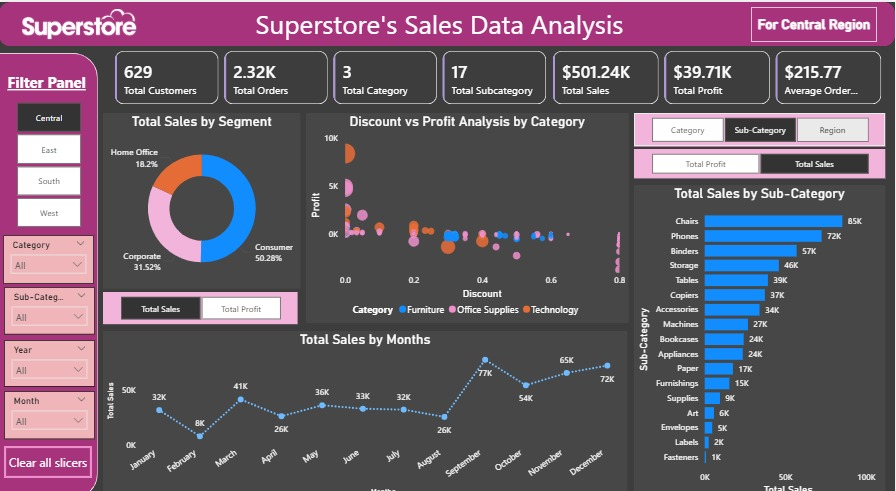

What the dashboard file says about the page in this screenshot:
{"tool":"powerbi","page":{"name":"Page 1","canvas":[1280,720],"ordinal":0},"visuals":[{"type":"shape","box":[0,0,1280.2,63.4],"z":0},{"type":"textbox","box":[361.4,0,535.7,60.5],"z":1000},{"type":"cardVisual","fields":{"Data":["sales_data.Total Customers","sales_data.Total Orders","sales_data.Total Category","sales_data.Total Subcategory"]},"box":[148.3,53.3,653.8,110.9],"z":2000},{"type":"cardVisual","fields":{"Data":["sales_data.Total Sales","sales_data.Total Profit","sales_data.Average Order Value"]},"box":[774.7,53.3,505.4,110.9],"z":3000},{"type":"shape","box":[0,73.4,141.1,636.5],"z":4000},{"type":"textbox","box":[0,93.8,136.2,49.2],"z":5000},{"type":"lineChart","fields":{"Y":["sales_data.Total Sales"],"Category":["sales_data.month_name"]},"box":[148.3,469.4,748.8,240.5],"z":6000},{"type":"slicer","fields":{"Values":["sales_data.year"]},"box":[6.7,482.2,130,66.7],"z":7000},{"type":"slicer","fields":{"Values":["sales_data.month"]},"box":[6.7,555.6,130,68.9],"z":8000},{"type":"slicer","fields":{"Values":["Choose Y-Axis.Choose Y-Axis"]},"box":[148.3,414.7,277.9,46.1],"z":9000},{"type":"slicer","fields":{"Values":["Choose Y-Axis Values 2.Choose Y-Axis Values"]},"box":[907.2,158.4,358.6,47.5],"z":10000},{"type":"clusteredBarChart","fields":{"Category":["sales_data.Sub-Category"],"Y":["sales_data.Total Sales"]},"box":[907.2,262.1,358.6,447.8],"z":11000},{"type":"slicer","fields":{"Values":["Choose X-Axis.Choose X-Axis"]},"box":[907.2,210.2,358.6,41.8],"z":12000},{"type":"scatterChart","title":"Discount vs Profit Analysis by Category","fields":{"X":["Avg(sales_data.discount)"],"Y":["Sum(sales_data.profit)"],"Size":["Sum(sales_data.sales)"],"Series":["sales_data.Category"],"Category":["sales_data.order_id"]},"box":[439.2,158.4,460.8,299.5],"z":13000},{"type":"donutChart","title":"Total Sales by Segment","fields":{"Category":["sales_data.segment"],"Y":["sales_data.Total Sales"]},"box":[148.3,158.4,282.2,250.6],"z":14000},{"type":"slicer","fields":{"Values":["sales_data.Category"]},"box":[5.6,332.2,130,70],"z":15000},{"type":"slicer","fields":{"Values":["sales_data.Region"]},"box":[0,136.7,141.1,191.1],"z":16000},{"type":"slicer","fields":{"Values":["sales_data.Sub-Category"]},"box":[6.7,407.8,130,67.8],"z":17000},{"type":"image","box":[0,10.1,229,43.2],"z":18000},{"type":"actionButton","box":[7.1,634.3,125.7,45.7],"z":19000},{"type":"card","fields":{"Values":["Choose X-Axis.Dynamic Title1"]},"box":[1074.3,7.1,180,50],"z":20000}]}

Visuals, with their boxes in screenshot pixels (x1, y1, x2, y2), scaled from the page's 1280x720 canvas onto the 896x491 screenshot:
shape: {"x1": 0, "y1": 0, "x2": 895, "y2": 43}
textbox: {"x1": 253, "y1": 0, "x2": 628, "y2": 41}
cardVisual - sales_data.Total Customers x sales_data.Total Orders: {"x1": 104, "y1": 36, "x2": 561, "y2": 112}
cardVisual - sales_data.Total Sales x sales_data.Total Profit: {"x1": 542, "y1": 36, "x2": 895, "y2": 112}
shape: {"x1": 0, "y1": 50, "x2": 99, "y2": 484}
textbox: {"x1": 0, "y1": 64, "x2": 95, "y2": 98}
lineChart - sales_data.Total Sales x sales_data.month_name: {"x1": 104, "y1": 320, "x2": 628, "y2": 484}
slicer - sales_data.year: {"x1": 5, "y1": 329, "x2": 96, "y2": 374}
slicer - sales_data.month: {"x1": 5, "y1": 379, "x2": 96, "y2": 426}
slicer - Choose Y-Axis.Choose Y-Axis: {"x1": 104, "y1": 283, "x2": 298, "y2": 314}
slicer - Choose Y-Axis Values 2.Choose Y-Axis Values: {"x1": 635, "y1": 108, "x2": 886, "y2": 140}
clusteredBarChart - sales_data.Sub-Category x sales_data.Total Sales: {"x1": 635, "y1": 179, "x2": 886, "y2": 484}
slicer - Choose X-Axis.Choose X-Axis: {"x1": 635, "y1": 143, "x2": 886, "y2": 172}
"Discount vs Profit Analysis by Category" scatterChart: {"x1": 307, "y1": 108, "x2": 630, "y2": 312}
"Total Sales by Segment" donutChart: {"x1": 104, "y1": 108, "x2": 301, "y2": 279}
slicer - sales_data.Category: {"x1": 4, "y1": 227, "x2": 95, "y2": 274}
slicer - sales_data.Region: {"x1": 0, "y1": 93, "x2": 99, "y2": 224}
slicer - sales_data.Sub-Category: {"x1": 5, "y1": 278, "x2": 96, "y2": 324}
image: {"x1": 0, "y1": 7, "x2": 160, "y2": 36}
actionButton: {"x1": 5, "y1": 433, "x2": 93, "y2": 464}
card - Choose X-Axis.Dynamic Title1: {"x1": 752, "y1": 5, "x2": 878, "y2": 39}
